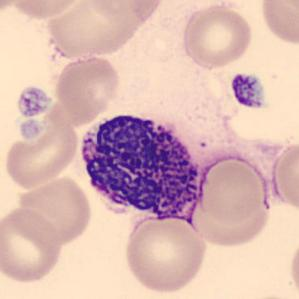Basophil: (73, 106, 210, 226)
Platelets: (229, 71, 266, 110), (15, 84, 52, 120)
RBC: (121, 212, 210, 294), (1, 112, 80, 189), (44, 0, 141, 60), (15, 174, 94, 245), (179, 1, 255, 70), (0, 205, 65, 285), (198, 156, 272, 224), (187, 194, 276, 248), (53, 54, 121, 122), (268, 139, 299, 214), (85, 0, 164, 26), (257, 0, 299, 47), (9, 0, 87, 20), (121, 0, 165, 22), (287, 233, 299, 299), (0, 0, 28, 19), (234, 293, 299, 299)
